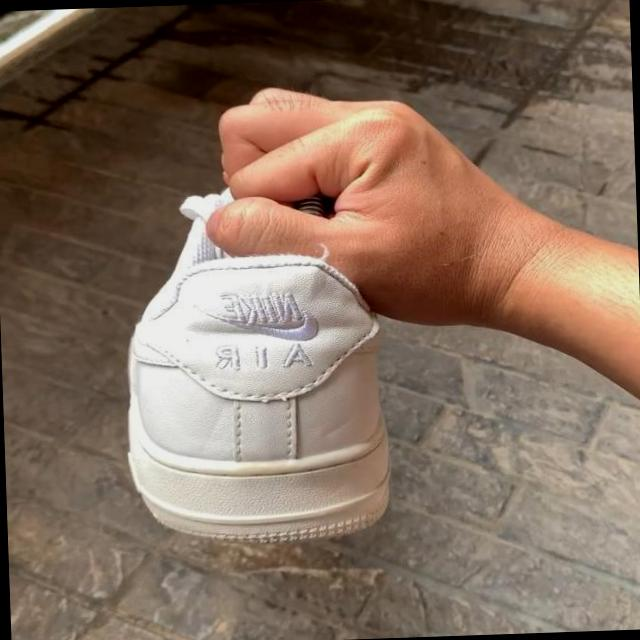nike_fake_airforce: (112, 194, 394, 556)
